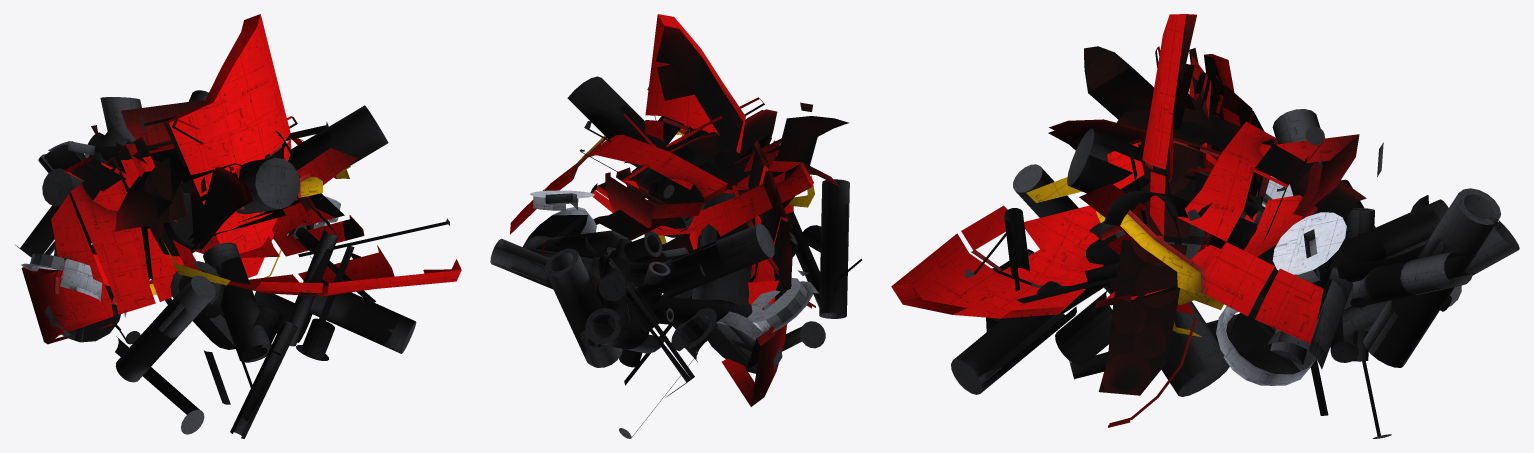
Rendered from MonsterA2_die12.obj.
3 views of the same model, side by side, from view 1: azimuth 30°, elevation 25°; view 2: azimuth 150°, elevation 25°; view 3: azimuth 270°, elevation 25° (orthographic). The views are drawn at different scales.
Visible parts, largest first — view 1: Box001; view 2: Box001; view 3: Box001.
Boxes of the visible parts, <box> form: Box001: <box>15,14,461,438</box>; Box001: <box>490,14,862,438</box>; Box001: <box>891,14,1519,438</box>.
Size of the model in its own units: 219 by 259 by 324.
1 material, 1 textured.
